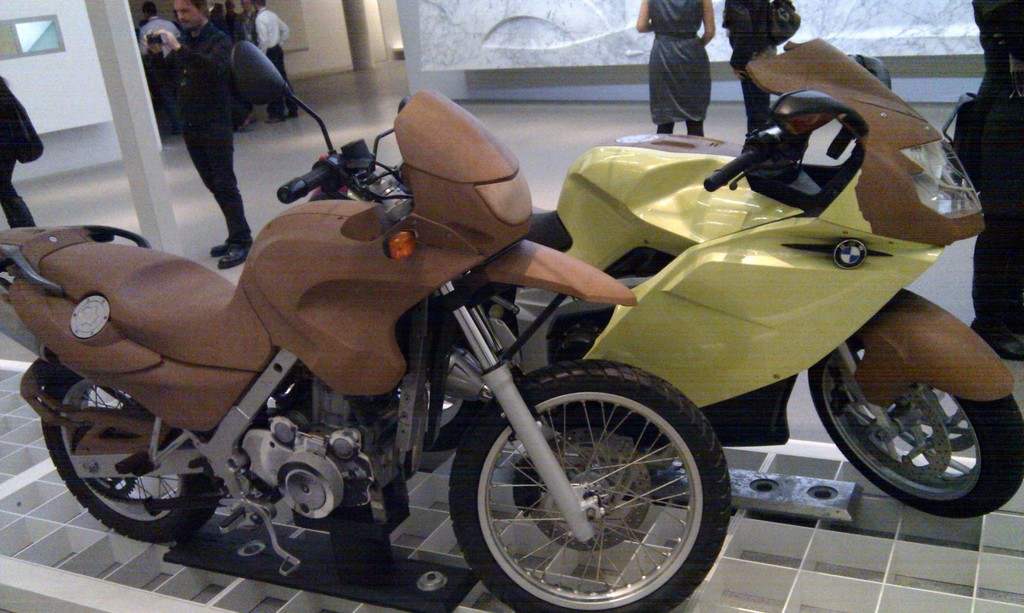Motorcycle: (5, 78, 784, 609), (446, 55, 1023, 517)
